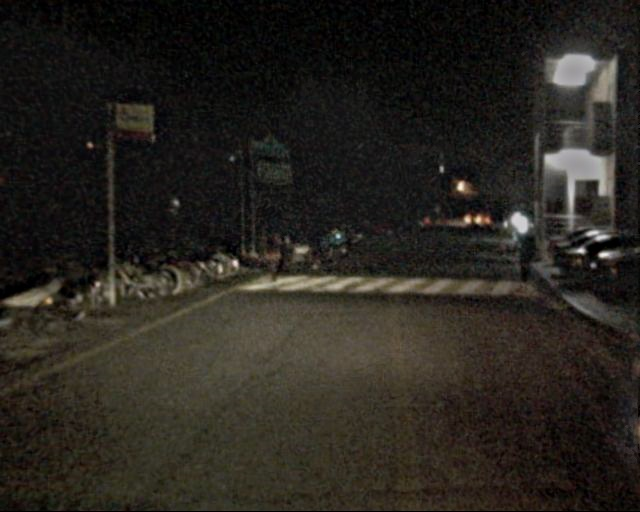person: (512, 226, 539, 291), (255, 224, 281, 288), (303, 219, 322, 266)
